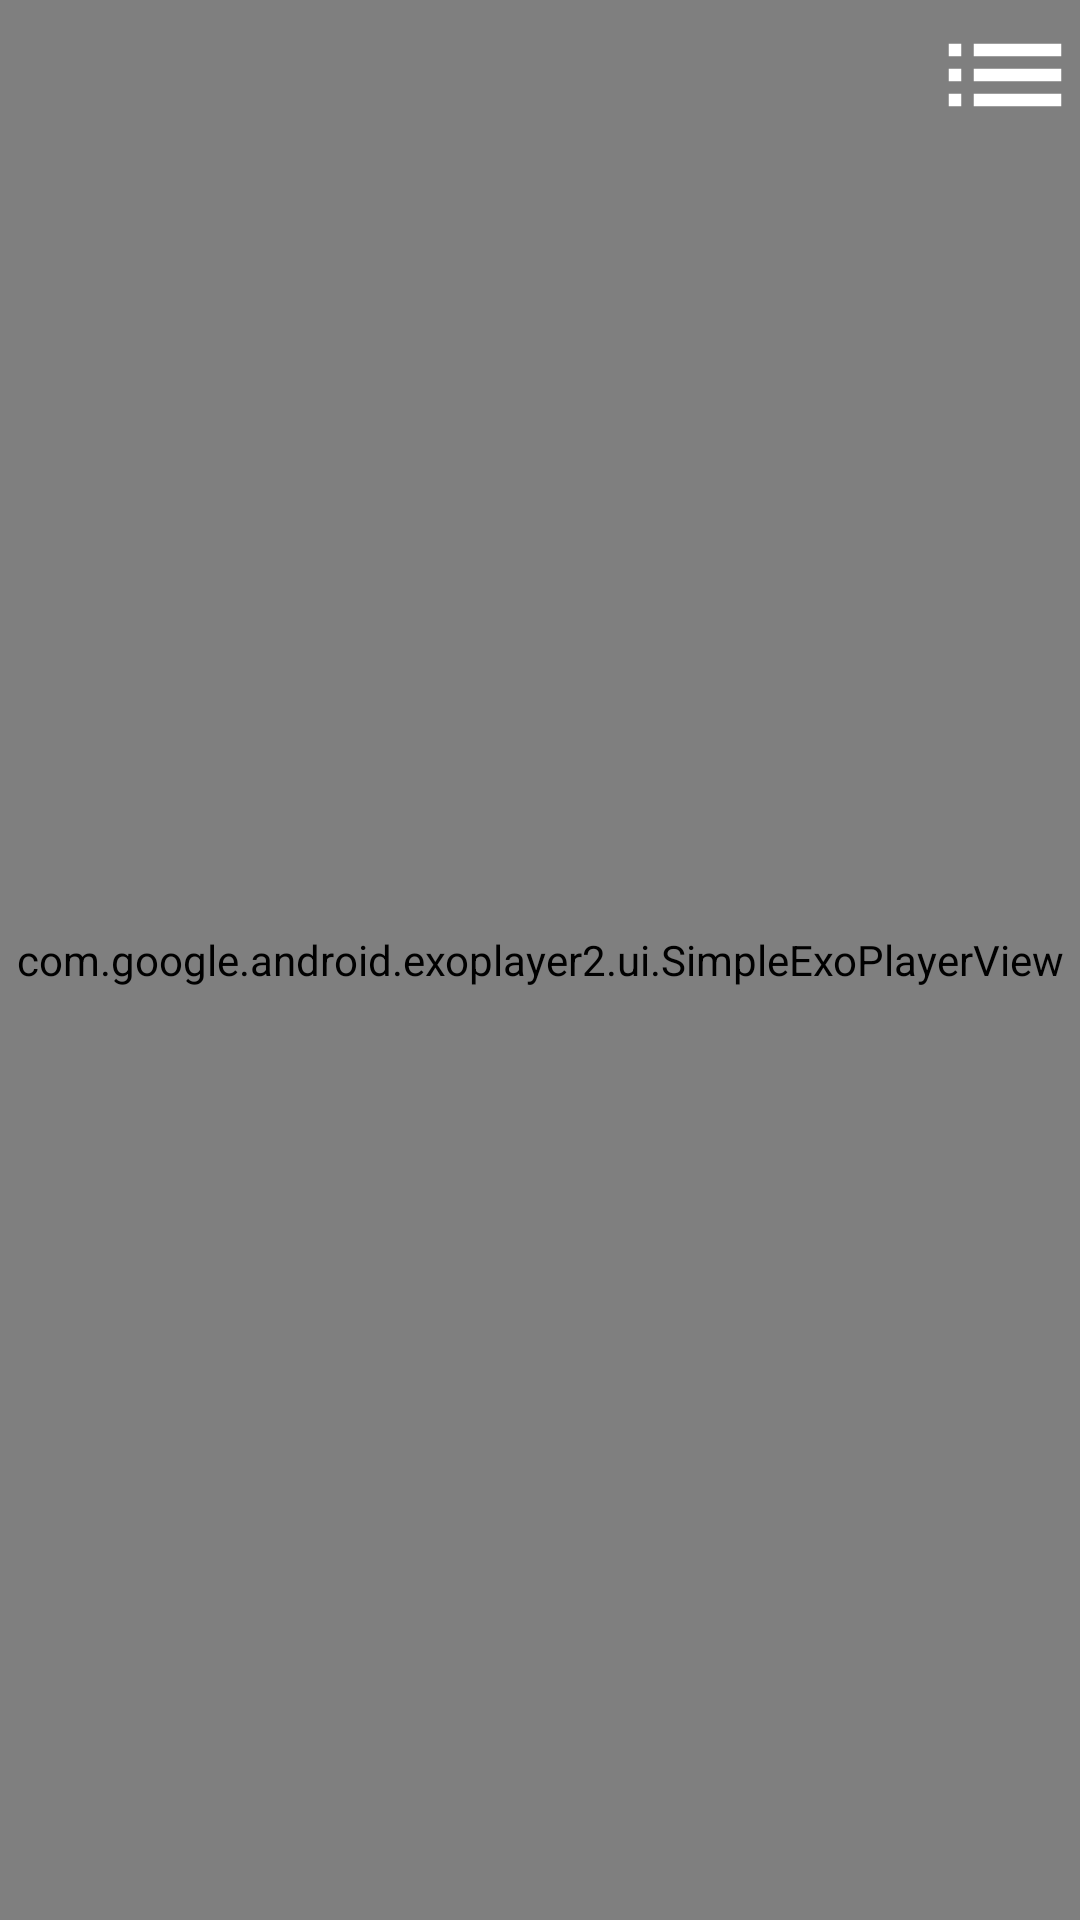

Where to tap for icons on this 1080 x 1920 app screen, as point (x, y):
list: point (1005, 75)
